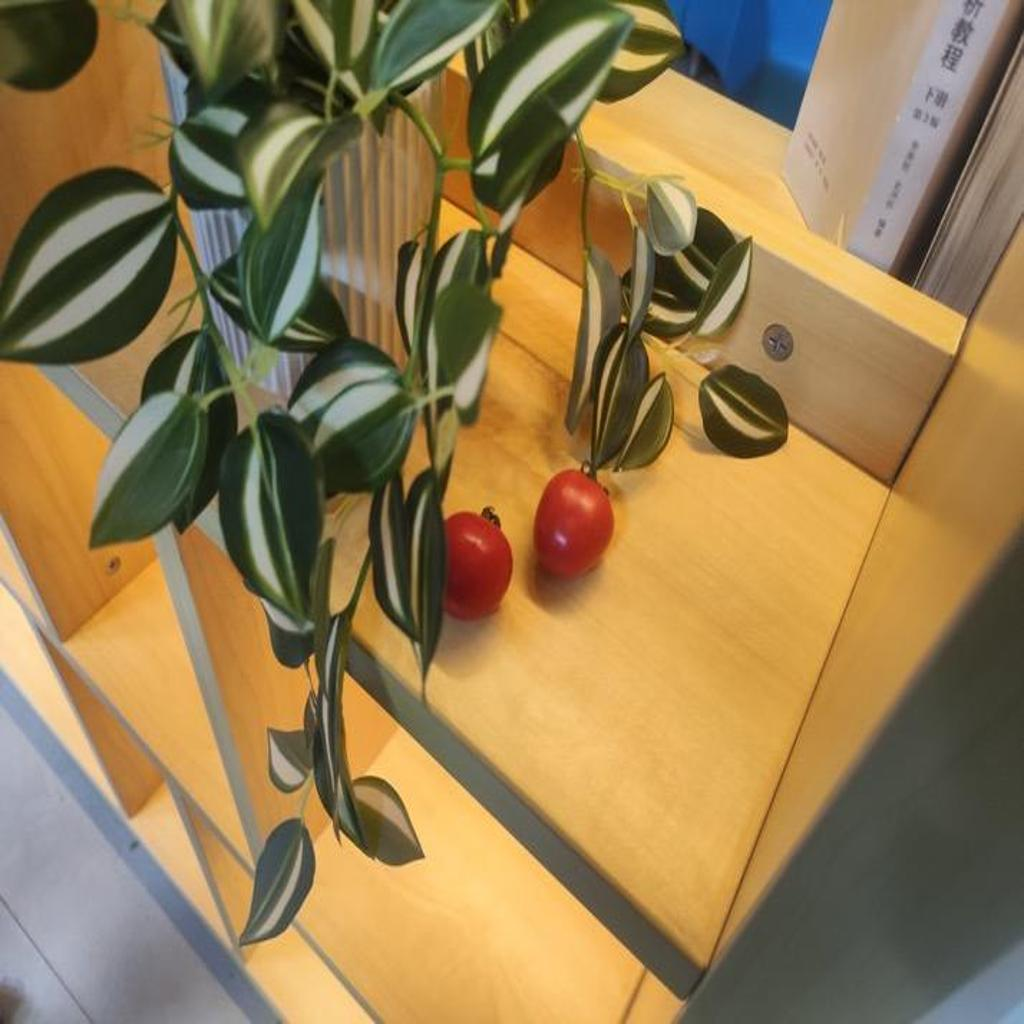tomato: (540, 469, 623, 582), (435, 509, 510, 616)
